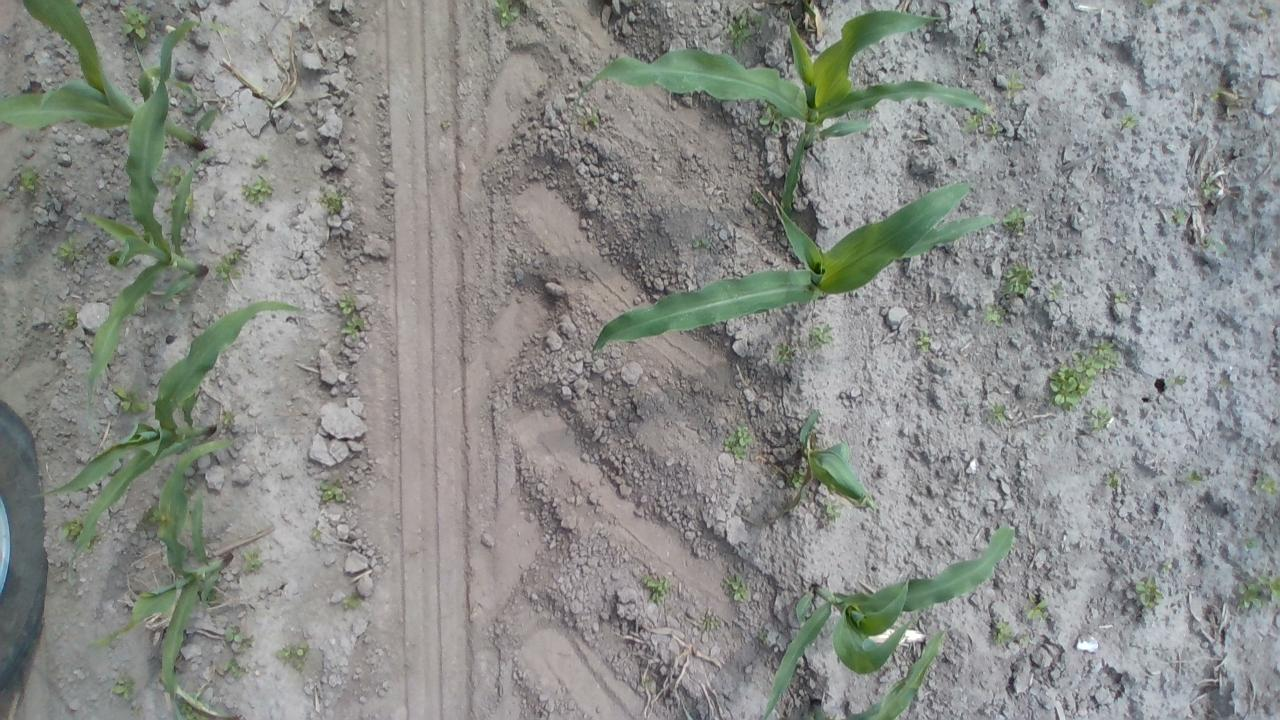Maize: (575, 12, 996, 211), (30, 301, 304, 586), (591, 181, 1030, 351), (759, 521, 1016, 720), (86, 19, 206, 406), (85, 436, 232, 720), (0, 0, 220, 154), (809, 630, 945, 720), (781, 410, 878, 514)
Weeds: (1047, 337, 1124, 414), (1238, 574, 1280, 610), (725, 13, 767, 49), (63, 516, 103, 553), (721, 418, 754, 462), (122, 4, 152, 50), (339, 293, 368, 340), (999, 258, 1033, 298), (110, 382, 150, 416), (110, 677, 142, 716), (214, 245, 242, 289), (240, 173, 274, 208), (1000, 206, 1036, 236), (1135, 574, 1165, 609), (641, 574, 672, 606), (278, 640, 310, 671), (223, 622, 256, 652), (574, 97, 604, 130), (318, 476, 352, 505), (54, 238, 82, 272), (175, 693, 210, 720), (1022, 589, 1049, 622), (759, 102, 785, 136), (720, 574, 751, 602), (1086, 400, 1112, 432), (318, 190, 352, 214), (494, 0, 522, 28), (990, 619, 1016, 647), (16, 165, 42, 193), (808, 322, 832, 352), (156, 164, 186, 188), (787, 466, 809, 497), (982, 302, 1008, 328), (772, 340, 797, 366), (1255, 471, 1279, 497), (240, 548, 262, 576), (54, 304, 78, 329), (207, 20, 239, 38), (223, 655, 245, 679), (960, 112, 983, 134), (1006, 72, 1024, 99), (988, 402, 1009, 425), (1200, 175, 1218, 200), (1206, 86, 1228, 106), (848, 496, 877, 511), (1168, 206, 1189, 226), (699, 614, 721, 632), (1200, 238, 1223, 255), (916, 326, 930, 352), (823, 499, 842, 518), (1119, 110, 1137, 130), (1048, 281, 1065, 302), (751, 189, 768, 209), (344, 592, 362, 610), (200, 591, 218, 608), (804, 710, 834, 720), (1184, 470, 1200, 488), (688, 238, 712, 249), (185, 192, 197, 214), (1107, 470, 1120, 489), (1216, 374, 1232, 389), (1113, 289, 1129, 304), (219, 408, 234, 424), (255, 152, 272, 166), (804, 0, 817, 17), (1244, 538, 1262, 550), (1166, 374, 1184, 386), (172, 297, 185, 313), (182, 543, 193, 561), (310, 527, 323, 542), (1136, 0, 1160, 8), (986, 124, 1002, 136), (973, 40, 986, 53), (1160, 560, 1172, 574), (150, 510, 162, 522), (185, 509, 192, 528), (640, 676, 651, 688), (1256, 7, 1268, 18), (182, 104, 195, 114), (204, 146, 216, 156), (758, 631, 768, 641), (216, 708, 224, 716), (1022, 634, 1028, 642), (624, 0, 632, 5)
